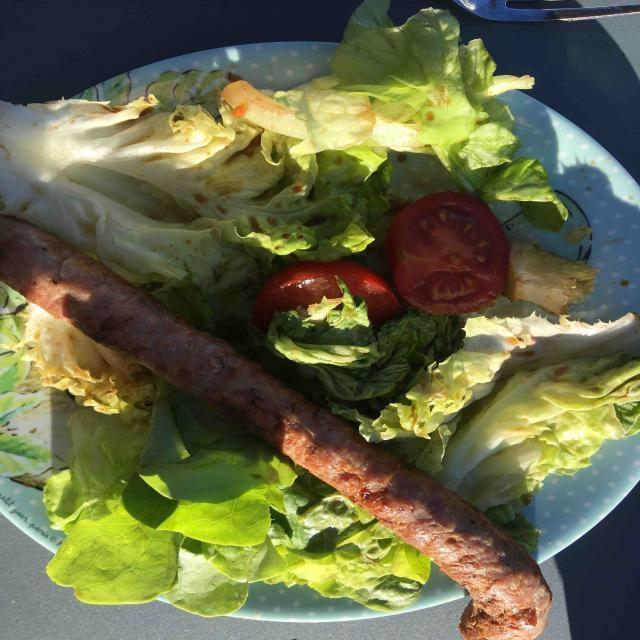salad: (7, 1, 640, 620)
sausage: (3, 203, 554, 633)
tomato: (229, 184, 519, 337)
